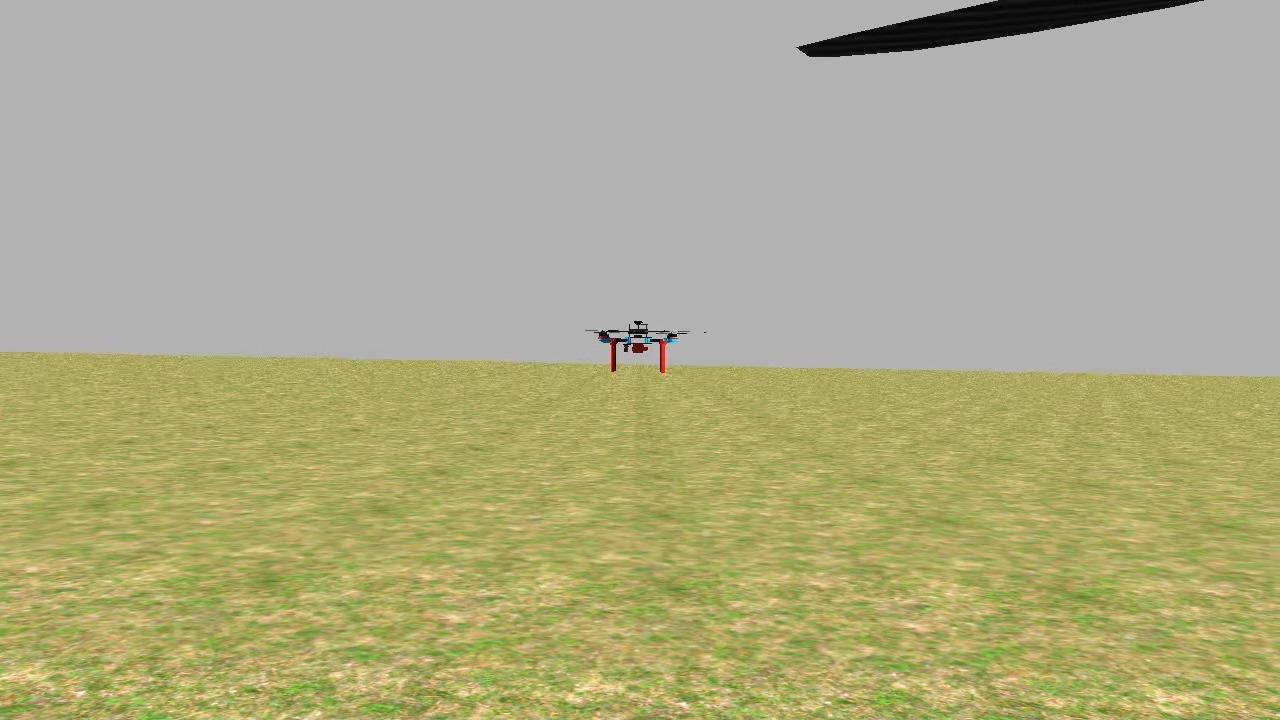UAV: (580, 311, 696, 382)
